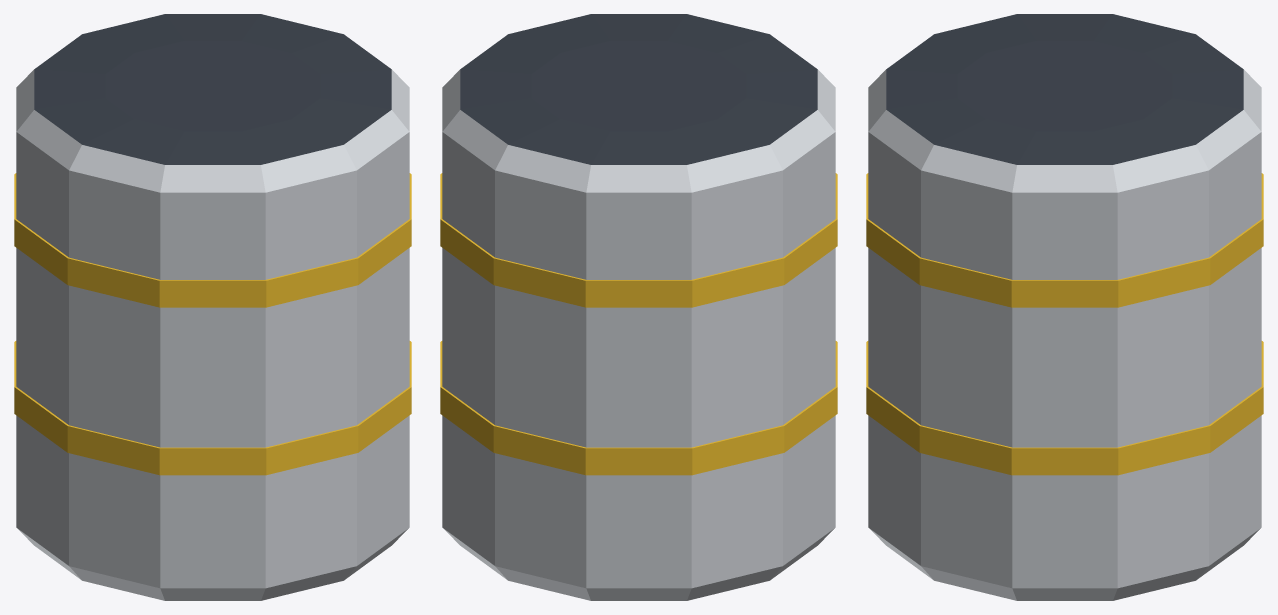
Rendered from can.glb.
The picture shows the model from 3 angles, left to right: view 1: azimuth 30°, elevation 25°; view 2: azimuth 150°, elevation 25°; view 3: azimuth 270°, elevation 25°; orthographic projection.
Parts seen in each view (by area): view 1: can; view 2: can; view 3: can.
Part boxes in pixels (bbox=[...]): can: bbox=[14, 14, 411, 600]; can: bbox=[440, 14, 837, 600]; can: bbox=[866, 14, 1263, 600].
Size of the model in its own units: 1.07 by 1.31 by 1.07.
